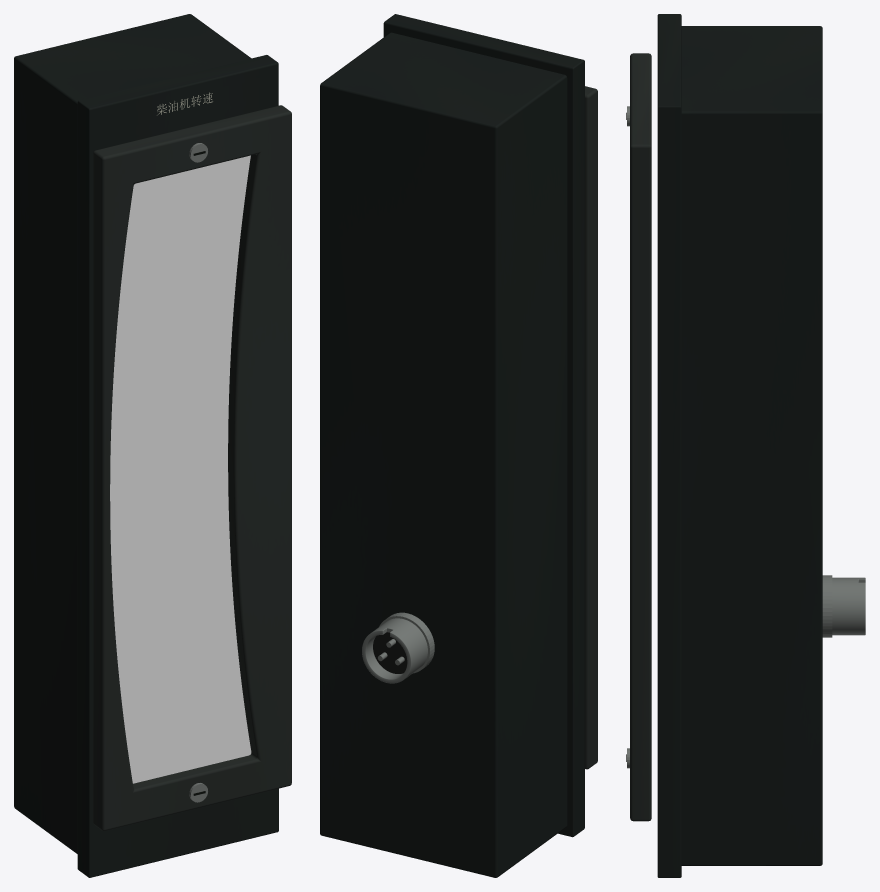
File: Tachometer_final.fbx
3 renders of one model, left to right at view 1: azimuth 30°, elevation 25°; view 2: azimuth 150°, elevation 25°; view 3: azimuth 270°, elevation 25°, orthographic.
Parts seen in each view (by area): view 1: Fixed_Protective_Glass, Fixed_Raised_Metal_Bezel, Fixed_Rear_Housing, Fixed_Front_Frame; view 2: Fixed_Rear_Housing, Fixed_Front_Frame, Fixed_Raised_Metal_Bezel, RPM_Connector_Shell, RPM_Recessed_Contact_Insert, RPM_Rear_Connector_Seat; view 3: Fixed_Rear_Housing, Fixed_Front_Frame, Fixed_Raised_Metal_Bezel, RPM_Connector_Shell, RPM_Rear_Connector_Seat.
Boxes of the visible parts, x1,y1,x2,y2 form: Fixed_Protective_Glass: (110, 155, 251, 783); Fixed_Raised_Metal_Bezel: (93, 105, 291, 830); Fixed_Rear_Housing: (14, 14, 251, 853); Fixed_Front_Frame: (77, 55, 278, 877); Fixed_Rear_Housing: (320, 32, 567, 877); Fixed_Front_Frame: (383, 14, 584, 837); Fixed_Raised_Metal_Bezel: (585, 86, 597, 769); RPM_Connector_Shell: (362, 618, 427, 683); RPM_Recessed_Contact_Insert: (373, 632, 407, 673); RPM_Rear_Connector_Seat: (379, 612, 434, 673); Fixed_Rear_Housing: (681, 26, 822, 865); Fixed_Front_Frame: (657, 14, 681, 877); Fixed_Raised_Metal_Bezel: (630, 53, 651, 821); RPM_Connector_Shell: (832, 577, 865, 635); RPM_Rear_Connector_Seat: (822, 575, 832, 637).
Bounding box in the file's own units: 4.6 × 17.8 × 5.01.
Materials: 9 (3 with a texture image).
